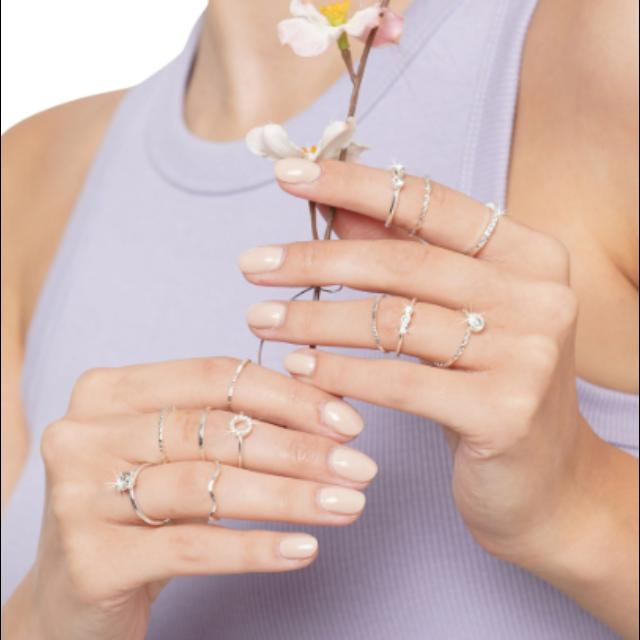ring: (354, 302, 486, 368), (154, 410, 258, 458), (108, 461, 160, 529), (214, 358, 258, 408), (464, 196, 501, 254), (195, 462, 229, 516)
